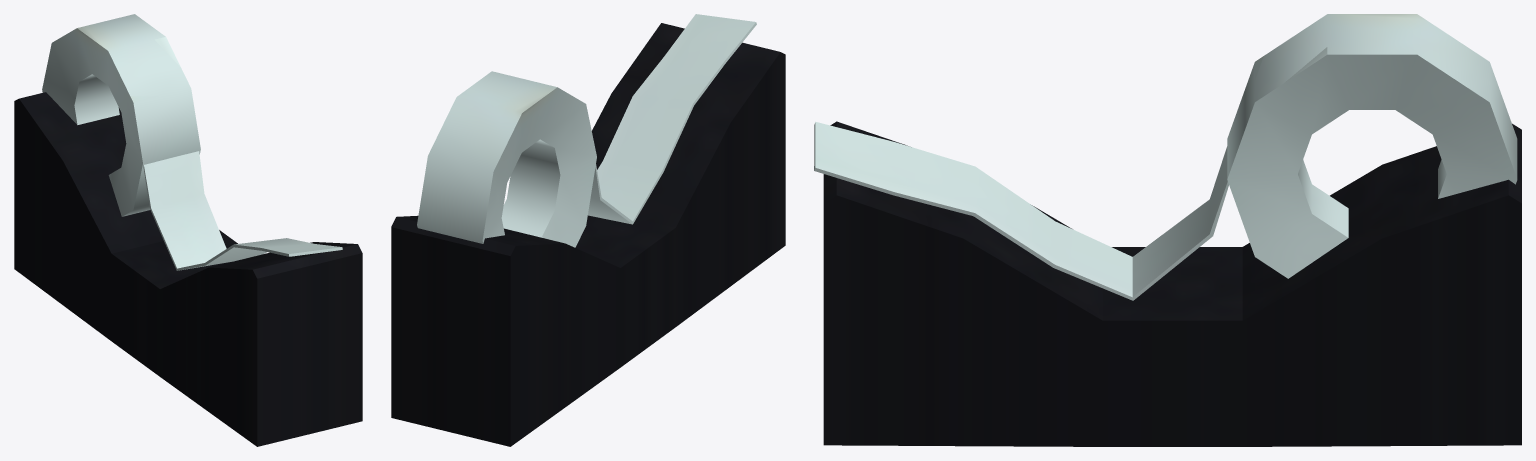
File: TapeHolder.FBX
The picture shows the model from 3 angles, left to right: view 1: azimuth 30°, elevation 25°; view 2: azimuth 150°, elevation 25°; view 3: azimuth 270°, elevation 25°; orthographic projection. The views are drawn at different scales.
Visible parts, largest first — view 1: TapeHolder; view 2: TapeHolder; view 3: TapeHolder.
Part boxes in pixels (x1,y1,x2,y2): TapeHolder: [14, 14, 362, 446]; TapeHolder: [391, 14, 785, 446]; TapeHolder: [814, 14, 1521, 446].
Size of the model in its own units: 4.4 by 10.48 by 17.8.
